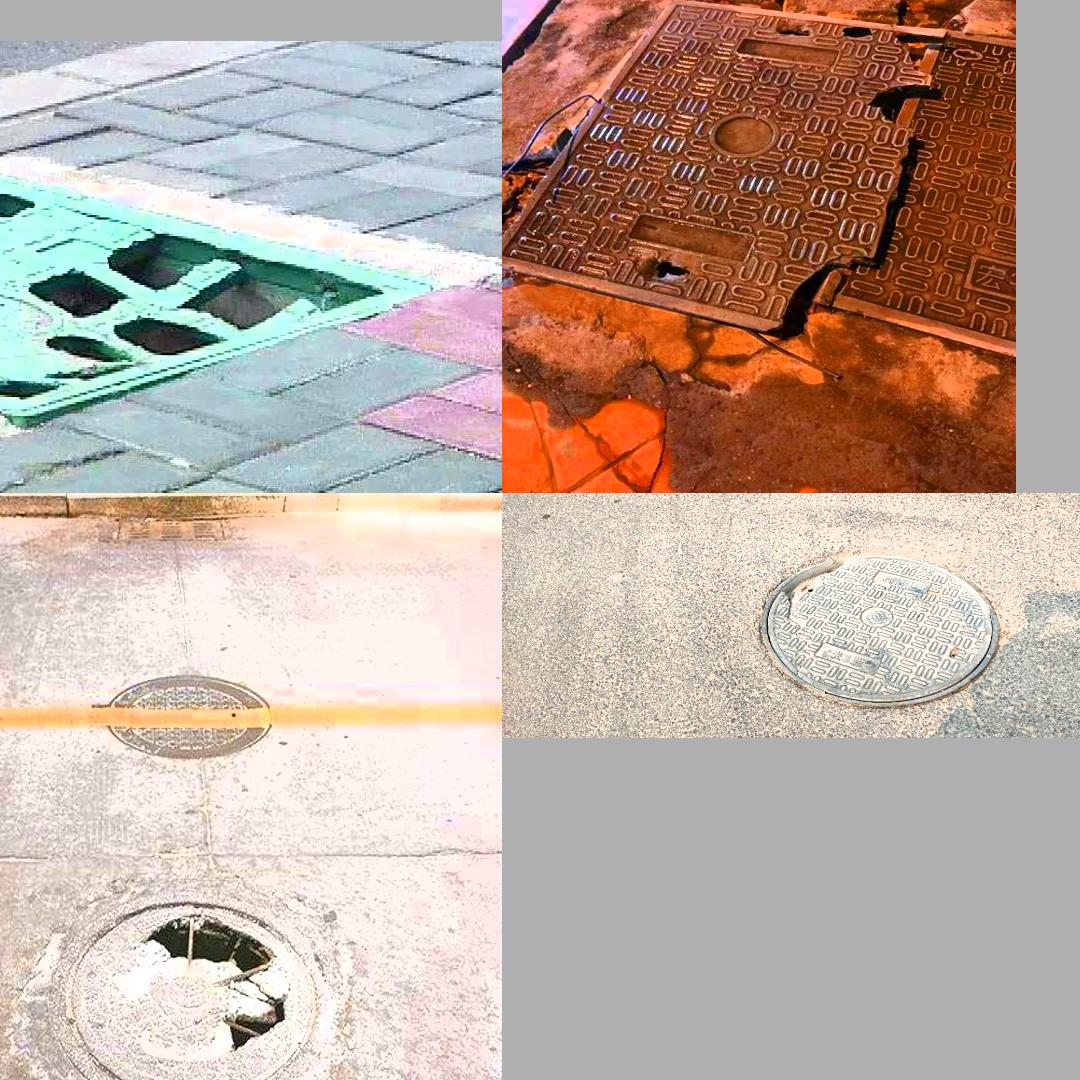broke: (515, 0, 1005, 401), (0, 151, 440, 431), (0, 857, 370, 1080), (759, 554, 1000, 707)
